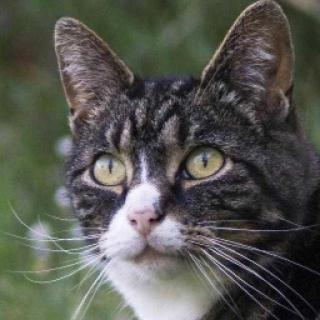cat: (47, 13, 302, 284)
nose: (123, 199, 172, 240)
